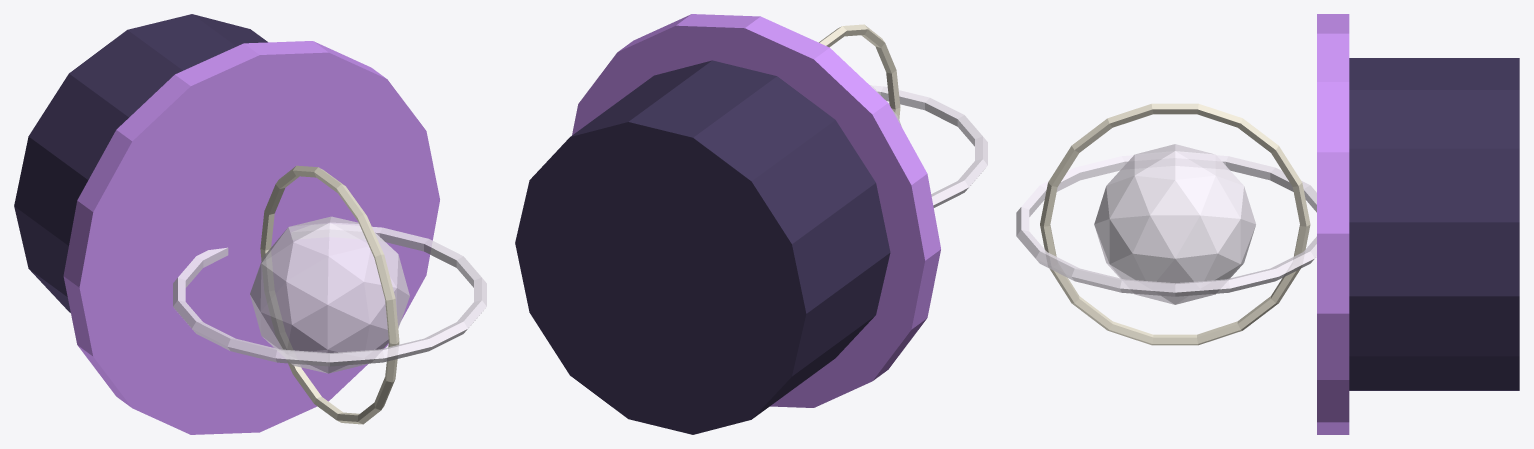
The model's file is 09_high_tier_relic_pedestal.glb.
3 views of the same model, side by side, from view 1: azimuth 30°, elevation 25°; view 2: azimuth 150°, elevation 25°; view 3: azimuth 270°, elevation 25° (orthographic).
Visible parts, largest first — view 1: top_rim, relic_pedestal, floating_relic_core, relic_orbit_a, relic_orbit_b; view 2: relic_pedestal, top_rim, relic_orbit_a, relic_orbit_b; view 3: relic_pedestal, floating_relic_core, top_rim, relic_orbit_b, relic_orbit_a.
Part boxes in pixels (<box>): top_rim: <box>63,41,439,434</box>; relic_pedestal: <box>14,14,267,312</box>; floating_relic_core: <box>250,216,409,373</box>; relic_orbit_a: <box>173,226,486,366</box>; relic_orbit_b: <box>260,165,399,424</box>; relic_pedestal: <box>515,60,890,434</box>; top_rim: <box>572,14,940,407</box>; relic_orbit_a: <box>871,85,987,207</box>; relic_orbit_b: <box>819,24,900,119</box>; relic_pedestal: <box>1349,58,1519,390</box>; floating_relic_core: <box>1094,144,1255,304</box>; top_rim: <box>1317,14,1349,434</box>; relic_orbit_b: <box>1040,103,1310,345</box>; relic_orbit_a: <box>1016,155,1316,296</box>.
Size of the model in its own units: 1.04 by 1.04 by 1.24.
